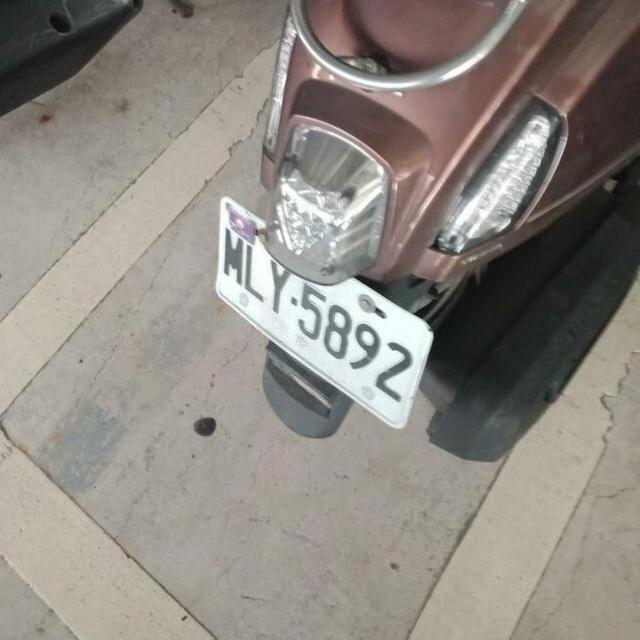W: (192, 213, 449, 444)
